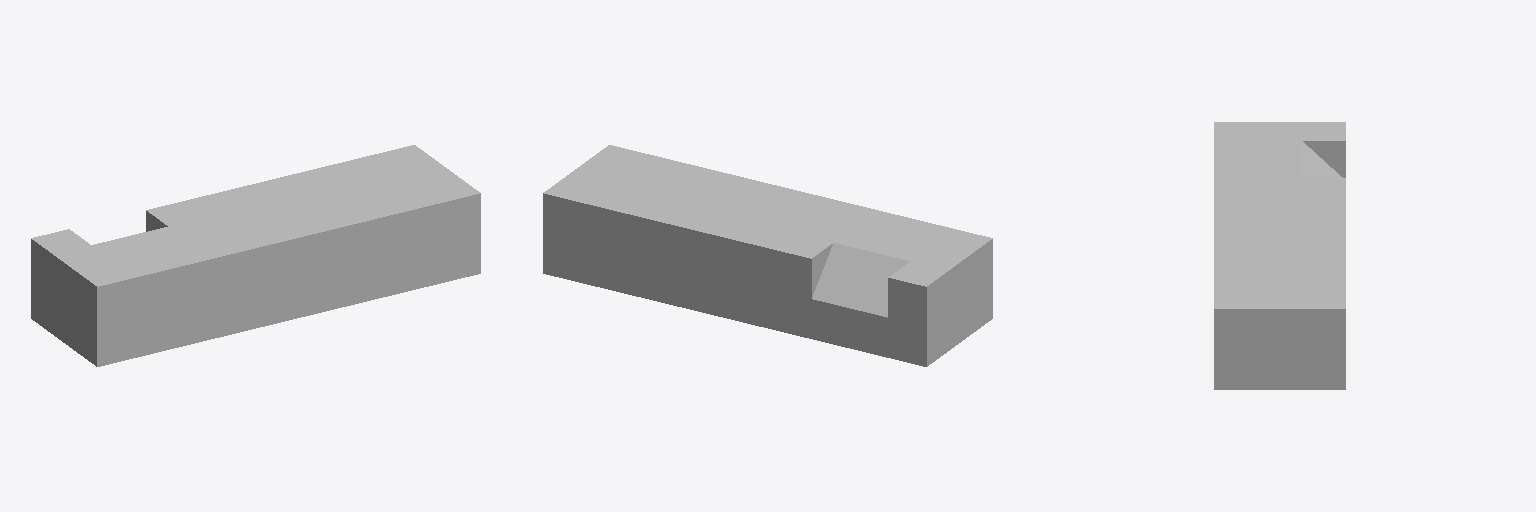
The model's file is Sidewalk1.obj.
The picture shows the model from 3 angles: view 1: azimuth 30°, elevation 25°; view 2: azimuth 150°, elevation 25°; view 3: azimuth 270°, elevation 25°; orthographic projection.
Parts seen in each view (by area): view 1: SIDEWALK-1, RAMP-EDGE-2, RAMP-EDGE-1; view 2: RAMP-EDGE-2, SIDEWALK-1, RAMP, RAMP-EDGE-1; view 3: SIDEWALK-1, RAMP-EDGE-2, RAMP-EDGE-1, RAMP.
Boxes of the visible parts, x1=… form: SIDEWALK-1: x1=53, y1=161, x2=480, y2=366; RAMP-EDGE-2: x1=146, y1=145, x2=435, y2=231; RAMP-EDGE-1: x1=31, y1=229, x2=89, y2=333; RAMP-EDGE-2: x1=543, y1=177, x2=832, y2=338; SIDEWALK-1: x1=566, y1=145, x2=992, y2=350; RAMP: x1=812, y1=243, x2=909, y2=357; RAMP-EDGE-1: x1=888, y1=261, x2=948, y2=366; SIDEWALK-1: x1=1214, y1=122, x2=1301, y2=389; RAMP-EDGE-2: x1=1302, y1=178, x2=1345, y2=389; RAMP-EDGE-1: x1=1302, y1=122, x2=1345, y2=177; RAMP: x1=1302, y1=141, x2=1342, y2=177.
Bounding box in the file's own units: 10 × 2 × 3.